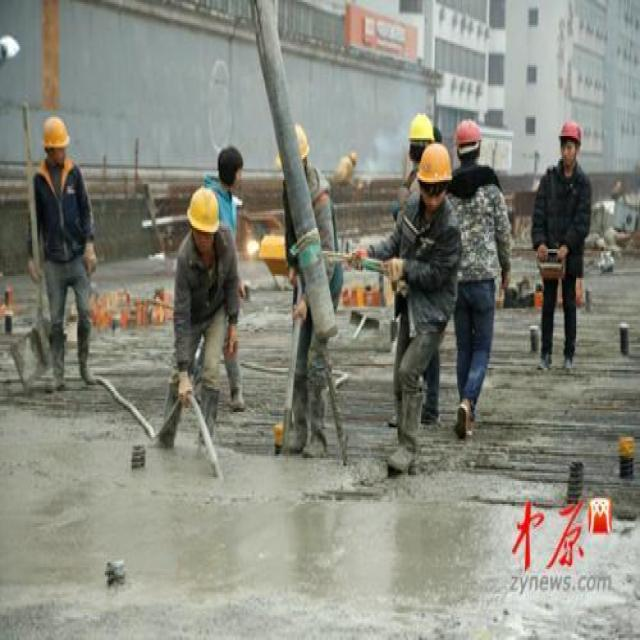helmet: (270, 113, 316, 188), (183, 180, 224, 259), (417, 142, 452, 211), (402, 104, 436, 170), (40, 111, 72, 176), (451, 113, 486, 171), (558, 115, 586, 176)
no-helmet: (215, 138, 248, 192)
